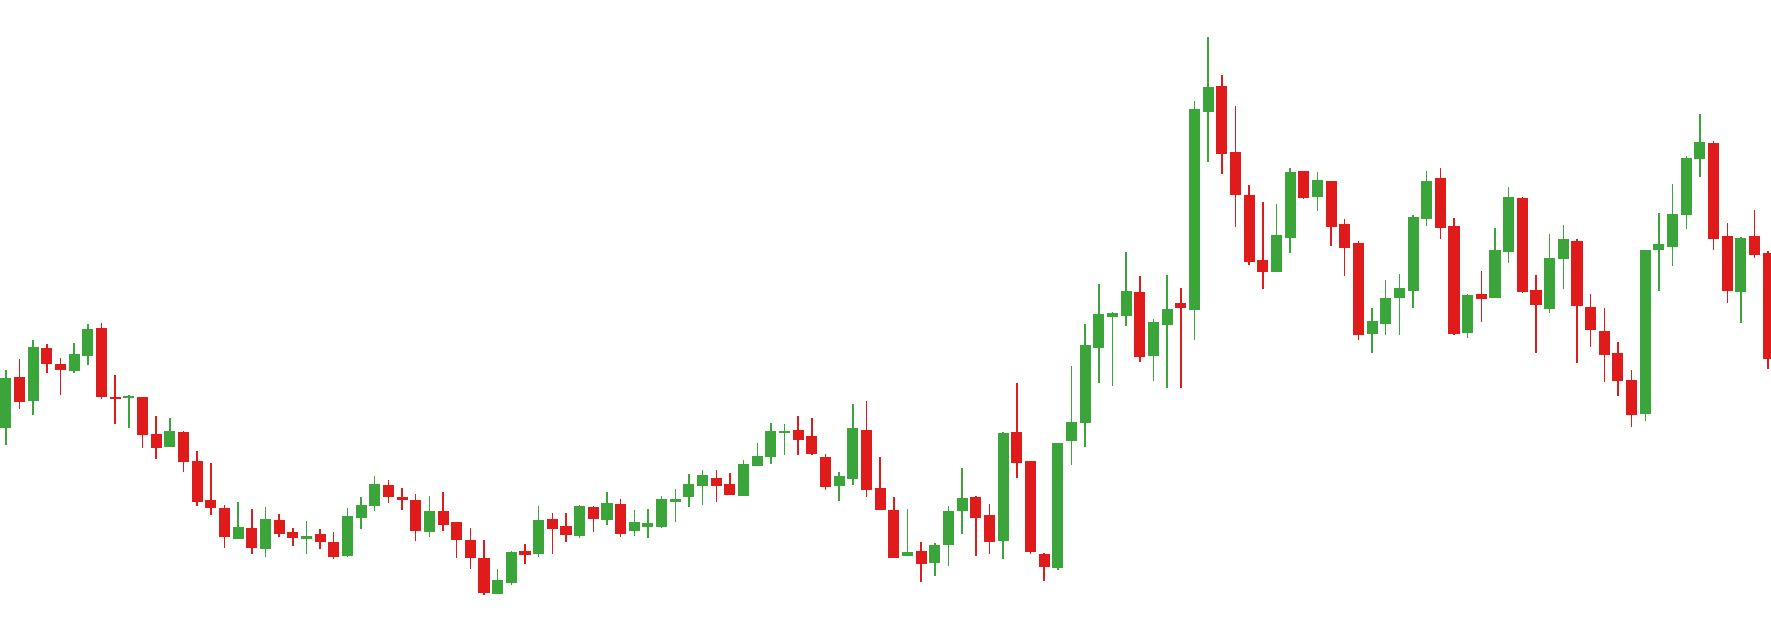sell: (1501, 110, 1720, 289)
